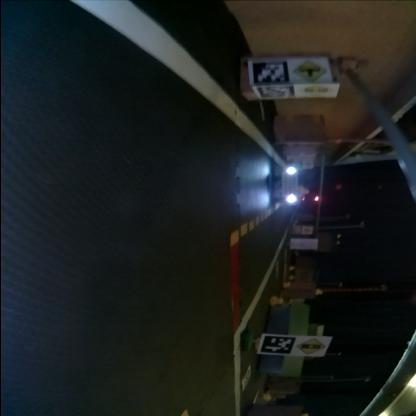Duckie: (271, 297, 280, 306), (300, 187, 308, 197), (263, 395, 271, 401), (283, 283, 290, 289), (316, 290, 323, 295)
Duckiebot: (274, 168, 301, 206)
Intersection sign: (294, 59, 328, 83)
QR code: (249, 61, 289, 85), (259, 336, 295, 356), (254, 86, 294, 100), (242, 365, 250, 389), (274, 262, 282, 278), (294, 228, 301, 235)
Signal sign: (297, 337, 327, 357)
Traffic light: (313, 196, 321, 202)
